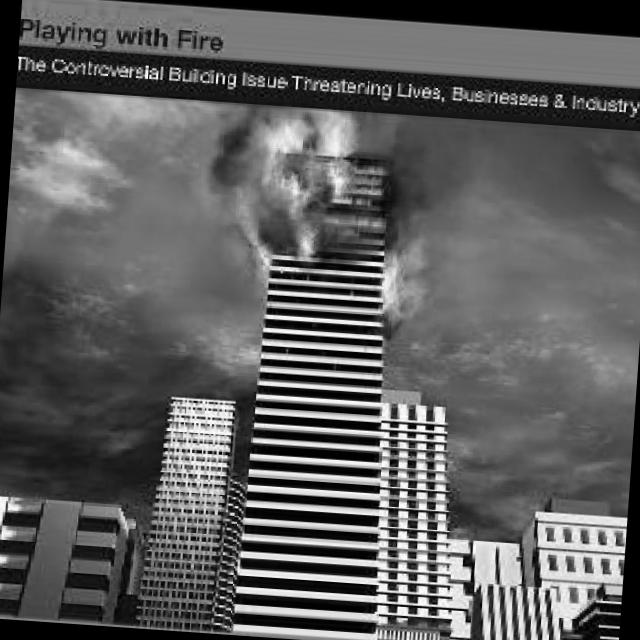fire: (236, 108, 453, 346)
